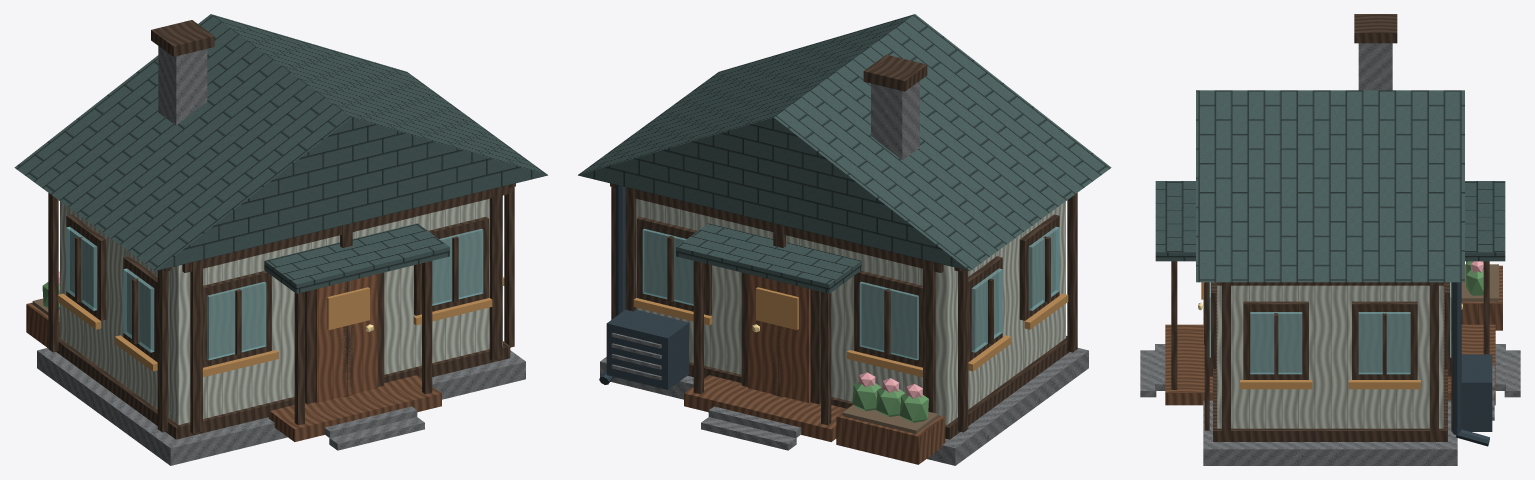
Rendered from house_lv1_b.glb.
The picture shows the model from 3 angles, left to right: view 1: azimuth 30°, elevation 25°; view 2: azimuth 150°, elevation 25°; view 3: azimuth 270°, elevation 25°; orthographic projection. The views are drawn at different scales.
Visible parts, largest first — view 1: gable_roof, walls, foundation, front_porch_canopy, front_door, front_window_frame, floor_trim, front_deck, front_window_frame.001, front_window_glass, chimney, front_timber_band (+23 smaller); view 2: gable_roof, walls, back_porch_canopy, back_door, foundation, back_window_frame, back_ac_unit, back_deck, back_window_frame.001, back_window_glass, back_garden_bed, chimney (+29 smaller); view 3: gable_roof, walls, foundation, right_window_frame, right_window_frame.001, floor_trim, back_porch_canopy, front_porch_canopy, right_window_glass, right_window_glass.001, front_deck, back_ac_unit (+21 smaller).
Boxes of the visible parts, box(x1,y1,x2,y2) form: gable_roof: box(14, 14, 547, 270); walls: box(60, 195, 502, 424); foundation: box(37, 348, 525, 465); front_porch_canopy: box(264, 223, 449, 293); front_door: box(315, 274, 377, 402); front_window_frame: box(203, 271, 271, 367); floor_trim: box(56, 335, 510, 439); front_deck: box(268, 375, 441, 441); front_window_frame.001: box(414, 216, 488, 315); front_window_glass: box(207, 281, 266, 360); chimney: box(158, 46, 207, 125); front_timber_band: box(182, 185, 509, 272); gable_roof: box(578, 14, 1111, 270); walls: box(636, 199, 1065, 424); back_porch_canopy: box(676, 223, 861, 293); back_door: box(748, 274, 810, 402); foundation: box(600, 348, 1088, 465); back_window_frame: box(854, 271, 922, 367); back_ac_unit: box(606, 309, 689, 389); back_deck: box(684, 375, 846, 441); back_window_frame.001: box(637, 216, 711, 315); back_window_glass: box(859, 281, 918, 360); back_garden_bed: box(836, 404, 945, 464); chimney: box(871, 81, 919, 160); gable_roof: box(1196, 90, 1464, 282); walls: box(1217, 285, 1443, 428); foundation: box(1203, 299, 1457, 465); right_window_frame: box(1243, 301, 1308, 379); right_window_frame.001: box(1352, 301, 1417, 379); floor_trim: box(1213, 282, 1447, 441); back_porch_canopy: box(1465, 181, 1505, 261); front_porch_canopy: box(1155, 181, 1195, 261); right_window_glass: box(1250, 312, 1302, 374); right_window_glass.001: box(1358, 312, 1410, 374); front_deck: box(1165, 324, 1212, 405); back_ac_unit: box(1451, 354, 1492, 431).
Size of the model in its own units: 3.3 by 2.74 by 2.9.
13 materials, 7 textured.
